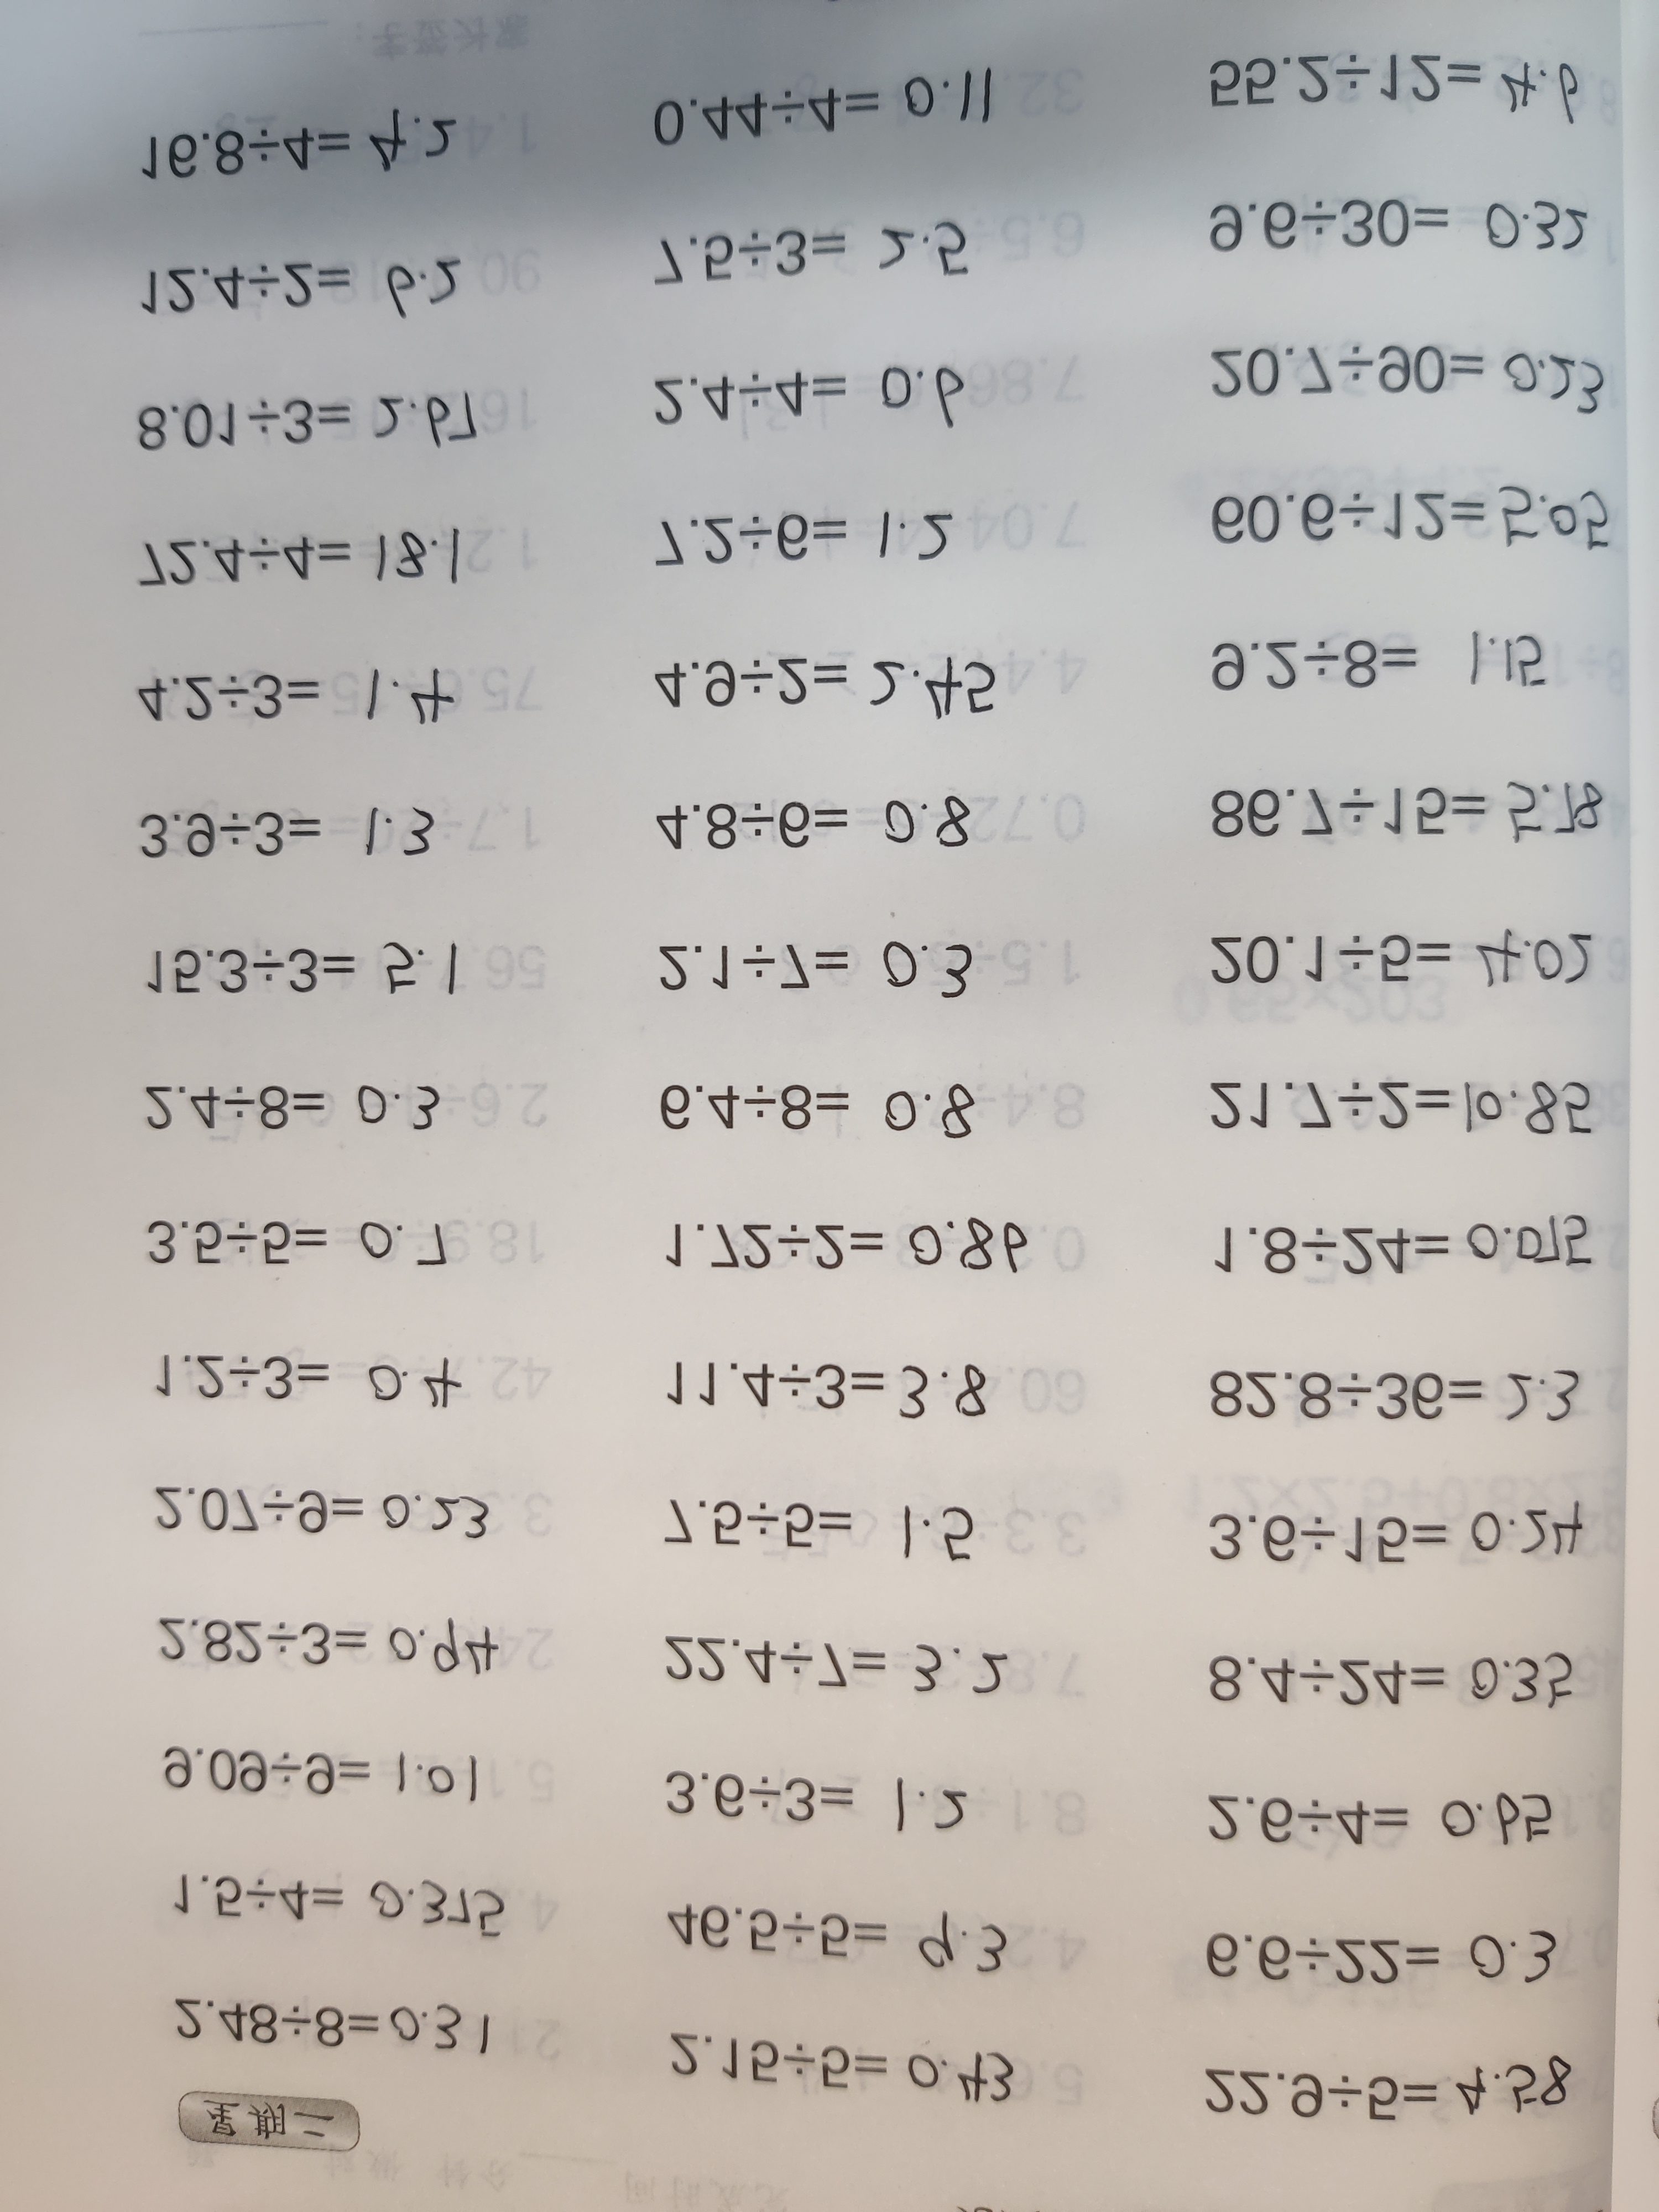equation: (1183, 754, 1614, 871), (1201, 30, 1595, 145), (1195, 1055, 1605, 1163), (1194, 469, 1621, 570), (1182, 603, 1568, 712), (1195, 902, 1607, 1005), (120, 632, 474, 751), (640, 51, 1009, 164), (1206, 324, 1612, 425), (640, 190, 997, 303), (124, 368, 502, 474), (132, 911, 472, 1028), (1183, 1484, 1593, 1580), (1182, 1348, 1598, 1442), (113, 500, 472, 608), (629, 341, 986, 449), (629, 631, 1004, 733), (1194, 2043, 1588, 2141), (1199, 185, 1607, 279), (131, 89, 474, 200), (1194, 1629, 1586, 1724), (640, 1054, 997, 1158), (655, 1193, 1042, 1287), (131, 233, 481, 336), (1192, 1770, 1567, 1865), (124, 1183, 465, 1287), (650, 766, 1004, 866), (1188, 1202, 1600, 1287), (650, 914, 997, 1015), (655, 1745, 986, 1850), (662, 1890, 1016, 1986), (1201, 1909, 1574, 1998), (162, 1853, 530, 1942), (148, 1470, 516, 1559), (652, 1616, 1030, 1702), (150, 1597, 512, 1686), (648, 1477, 997, 1569), (650, 1345, 1004, 1435), (643, 488, 965, 587), (652, 2029, 1032, 2113), (124, 779, 455, 873), (138, 1334, 490, 1421), (125, 1057, 471, 1146), (153, 1737, 498, 1808), (160, 1998, 505, 2067)
